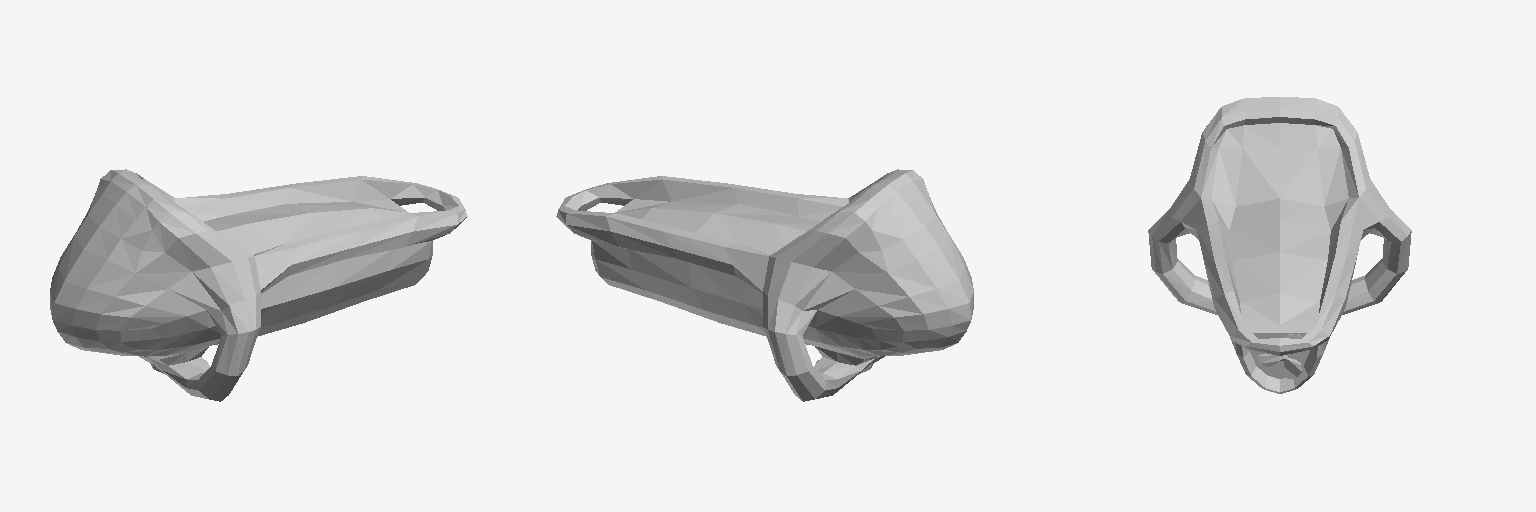
File: dive_scooter.obj
The picture shows the model from 3 angles: view 1: azimuth 30°, elevation 25°; view 2: azimuth 150°, elevation 25°; view 3: azimuth 270°, elevation 25°; orthographic projection.
Parts seen in each view (by area): view 1: Propeller2 Scooter; view 2: Propeller2 Scooter; view 3: Propeller2 Scooter, Propeller Propeller2.
Part boxes in pixels (left/top/right/bottom): Propeller2 Scooter: left=50, top=169, right=467, bottom=401; Propeller2 Scooter: left=556, top=169, right=973, bottom=401; Propeller2 Scooter: left=1148, top=97, right=1411, bottom=393; Propeller Propeller2: left=1257, top=334, right=1301, bottom=378.
Bounding box in the file's own units: 136 × 64.5 × 76.44.